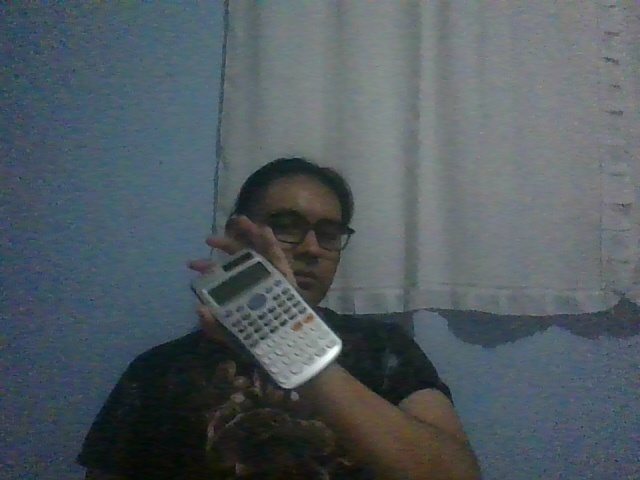calculadora: (189, 247, 344, 391)
